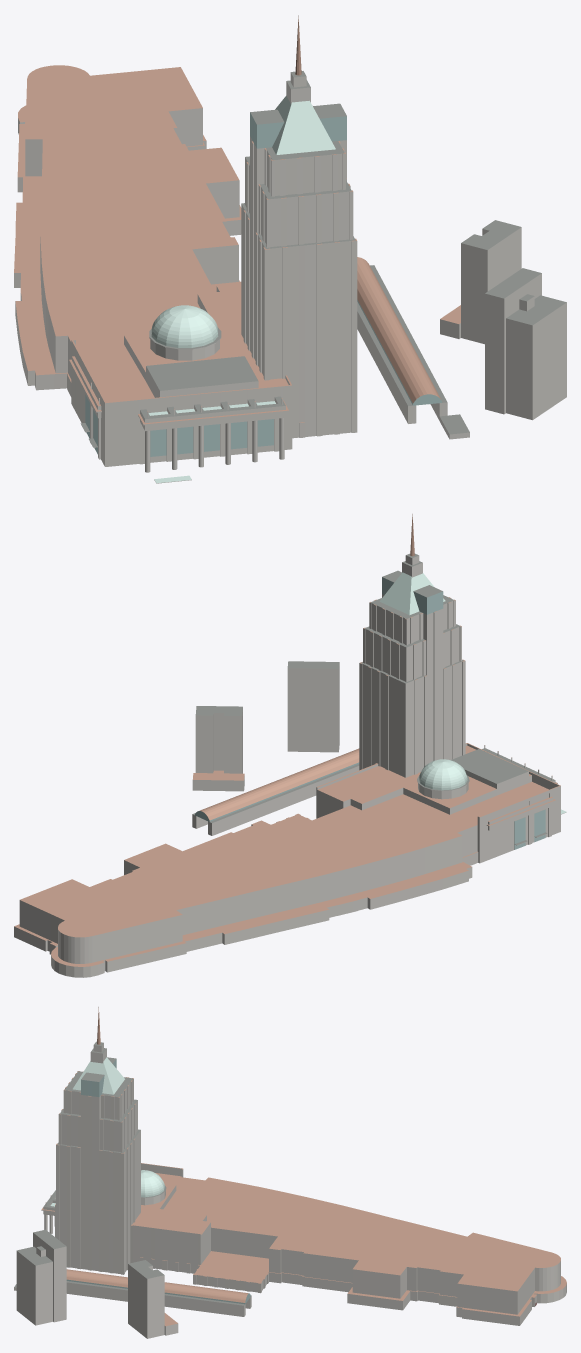
The model's file is gridID_121.dae.
The picture shows the model from 3 angles, top to bottom: view 1: azimuth 30°, elevation 25°; view 2: azimuth 150°, elevation 25°; view 3: azimuth 270°, elevation 25°; orthographic projection. The views are drawn at different scales.
Visible parts, largest first — view 1: model_gridID_121_w375224849, model_gridID_121_w384987386, model_gridID_121_w375224849_001, model_gridID_121_w384987385; view 2: model_gridID_121_w375224849, model_gridID_121_w384987386, model_gridID_121_w375224849_001, model_gridID_121_w384987385; view 3: model_gridID_121_w375224849, model_gridID_121_w384987386, model_gridID_121_w375224849_001, model_gridID_121_w384987385.
Part boxes in pixels (<box>): model_gridID_121_w375224849: <box>14,15,357,472</box>; model_gridID_121_w384987386: <box>485,268,566,420</box>; model_gridID_121_w375224849_001: <box>357,257,447,423</box>; model_gridID_121_w384987385: <box>440,220,521,344</box>; model_gridID_121_w375224849: <box>14,514,560,977</box>; model_gridID_121_w384987386: <box>287,661,339,752</box>; model_gridID_121_w375224849_001: <box>192,748,359,835</box>; model_gridID_121_w384987385: <box>192,706,244,791</box>; model_gridID_121_w375224849: <box>41,1007,566,1325</box>; model_gridID_121_w384987386: <box>16,1229,66,1325</box>; model_gridID_121_w375224849_001: <box>66,1269,251,1316</box>; model_gridID_121_w384987385: <box>128,1260,178,1338</box>.
Bounding box in the file's own units: 242 × 397 × 200.
